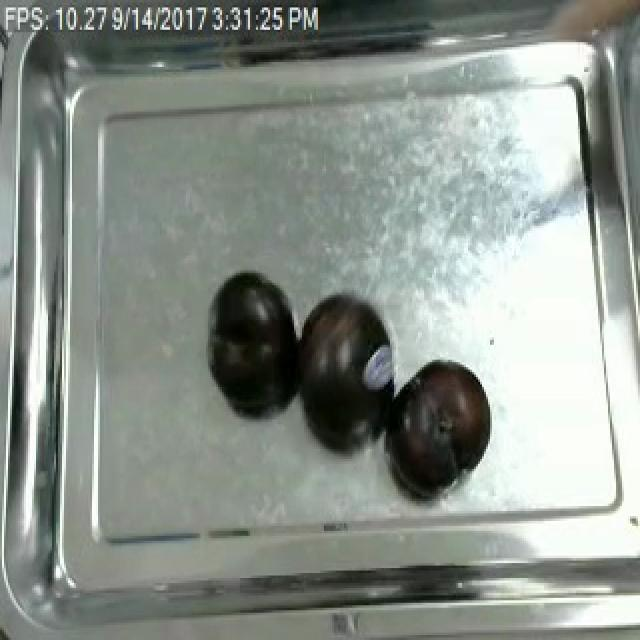Fruit: (384, 355, 496, 491), (206, 268, 304, 417)
